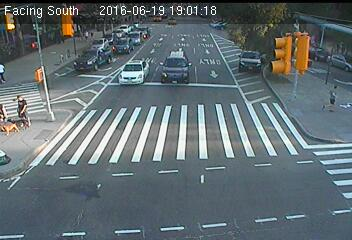neg: (229, 44, 254, 78), (199, 44, 222, 75), (102, 50, 122, 76), (56, 54, 73, 77), (156, 48, 173, 71)
pos: (319, 82, 344, 115), (8, 92, 32, 124)
